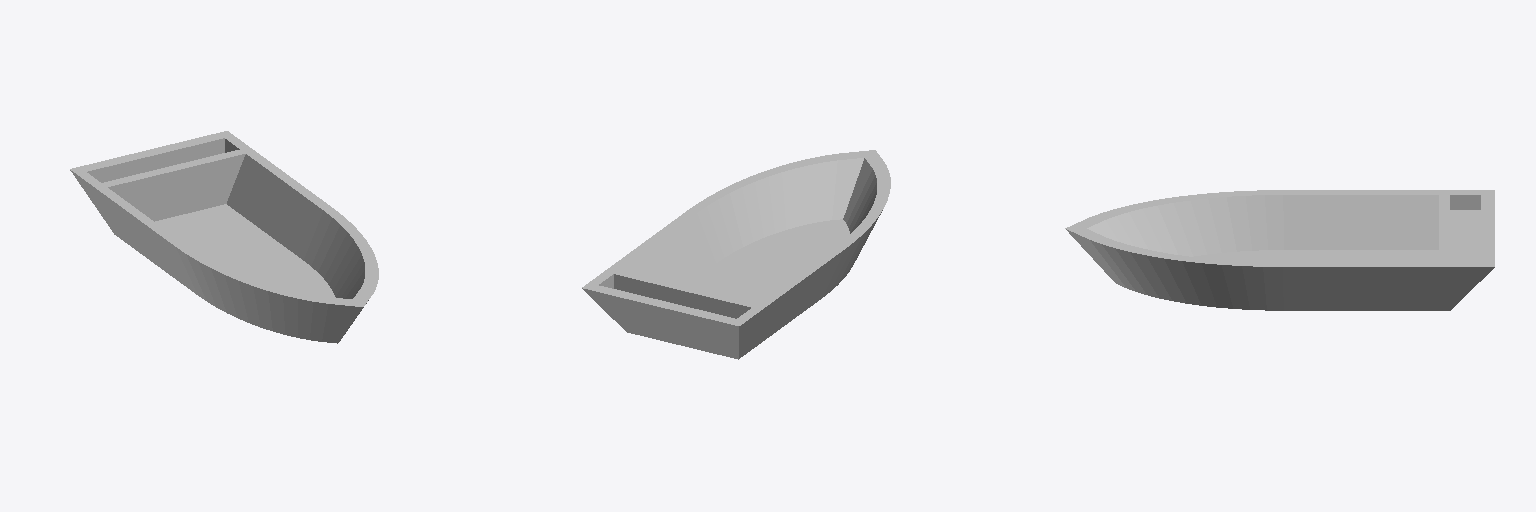
The model's file is boat.obj.
The picture shows the model from 3 angles: view 1: azimuth 30°, elevation 25°; view 2: azimuth 150°, elevation 25°; view 3: azimuth 270°, elevation 25°; orthographic projection.
Parts seen in each view (by area): view 1: Barco; view 2: Barco; view 3: Barco.
Part boxes in pixels (x1,y1,x2,y2): Barco: (70,131,378,343); Barco: (582,150,890,359); Barco: (1065,190,1494,310).
Size of the model in its own units: 2.68 by 0.89 by 6.33.